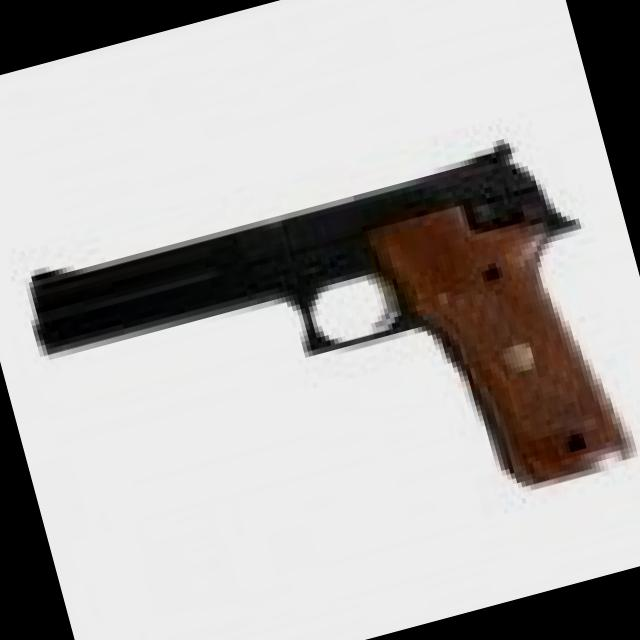handgun: (8, 126, 639, 612)
